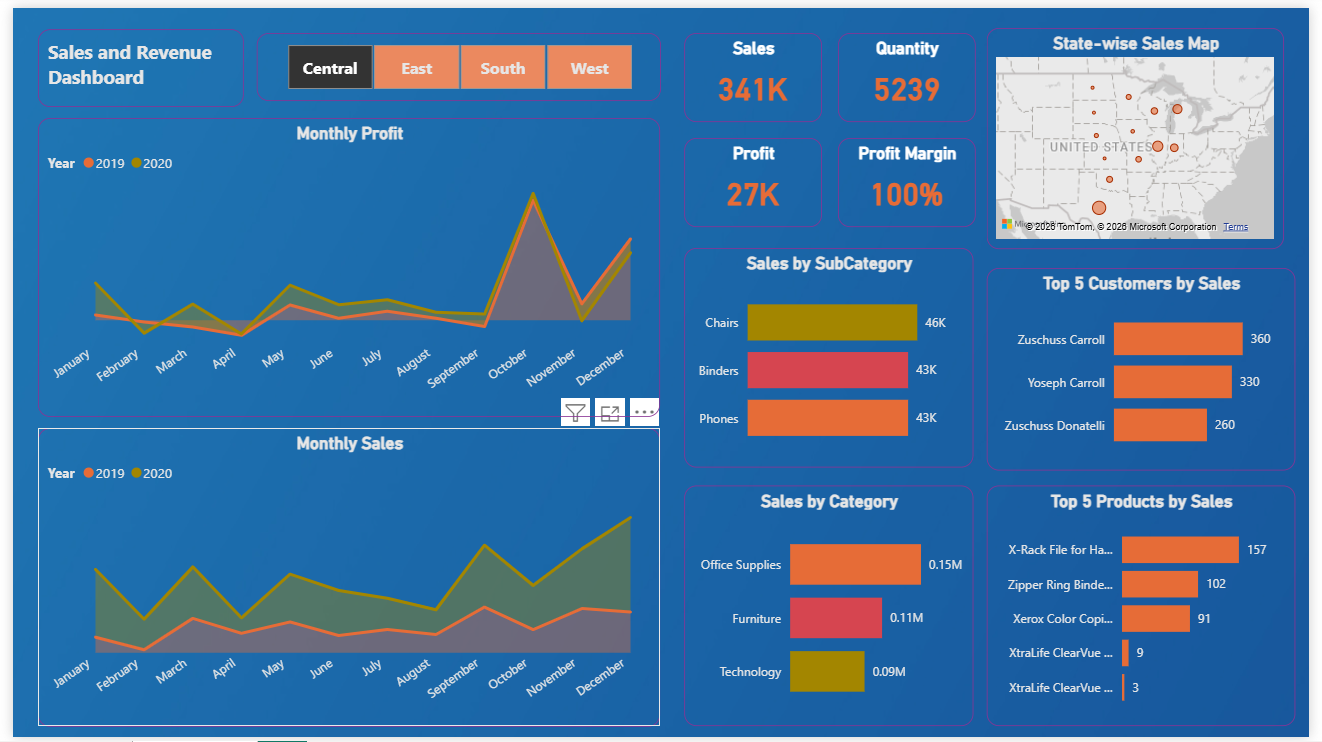

What the dashboard file says about the page in this screenshot:
{"tool":"powerbi","page":{"name":"Dashboard","canvas":[1280,720],"ordinal":0},"visuals":[{"type":"clusteredBarChart","title":" Sales by Category","fields":{"Category":["Sheet1.Category"],"Y":["Sum(Sheet1.Sales)"]},"box":[662.8,472,285.4,237.4],"z":0},{"type":"clusteredBarChart","title":" Sales by SubCategory","fields":{"Category":["Sheet1.Sub-Category"],"Y":["Sum(Sheet1.Sales)"]},"box":[662.8,237.4,285.4,216.8],"z":1000},{"type":"stackedAreaChart","title":"Monthly Sales","fields":{"Y":["Sum(Sheet1.Sales)"],"Category":["Sheet1.Order Date.Variation.Date Hierarchy.Month"],"Series":["Sheet1.Order Date.Variation.Date Hierarchy.Year"]},"box":[24.7,414.4,614.8,295],"z":2000},{"type":"stackedAreaChart","title":"Monthly Profit ","fields":{"Category":["Sheet1.Order Date.Variation.Date Hierarchy.Month"],"Series":["Sheet1.Order Date.Variation.Date Hierarchy.Year"],"Y":["Sum(Sheet1.Profit)"]},"box":[24.7,108.4,614.8,295],"z":3000},{"type":"map","title":"State-wise Sales Map","fields":{"Category":["Sheet1.State"],"Size":["Sum(Sheet1.Sales)"]},"box":[961.9,19.2,293.7,218.2],"z":4000},{"type":"slicer","fields":{"Values":["Sheet1.Region"]},"box":[240.1,24.7,399.3,67.2],"z":5000},{"type":"textbox","box":[24.7,20.6,203.1,76.8],"z":6000},{"type":"card","title":"Sales","fields":{"Values":["Sum(Sheet1.Sales)"]},"box":[662.8,24.7,135.8,87.8],"z":7000},{"type":"card","title":"Quantity","fields":{"Values":["Sum(Sheet1.Quantity)"]},"box":[815.1,24.7,135.8,87.8],"z":8000},{"type":"card","title":"Profit","fields":{"Values":["Sum(Sheet1.Profit)"]},"box":[662.8,129,135.8,87.8],"z":9000},{"type":"barChart","title":"Top 5 Products by Sales","fields":{"Category":["Sheet1.Product Name"],"Y":["Sum(Sheet1.Sales)"]},"box":[961.9,472,304.6,237.4],"z":10000},{"type":"barChart","title":"Top 5 Customers by Sales","fields":{"Category":["Sheet1.Customer Name"],"Y":["Sum(Sheet1.Sales)"]},"box":[961.9,256.6,304.6,200.3],"z":11000},{"type":"card","title":"Profit Margin ","fields":{"Values":["Sheet1.Profit Margin"]},"box":[815.1,129,135.8,87.8],"z":12000}]}

Visuals, with their boxes in screenshot pixels (x1, y1, x2, y2), scaled from the page's 1280x720 canvas onto the 1322x742 screenshot:
" Sales by Category" clusteredBarChart: detection(685, 486, 979, 731)
" Sales by SubCategory" clusteredBarChart: detection(685, 245, 979, 468)
"Monthly Sales" stackedAreaChart: detection(26, 427, 660, 731)
"Monthly Profit " stackedAreaChart: detection(26, 112, 660, 416)
"State-wise Sales Map" map: detection(993, 20, 1297, 245)
slicer - Sheet1.Region: detection(248, 25, 660, 95)
textbox: detection(26, 21, 235, 100)
"Sales" card: detection(685, 25, 825, 116)
"Quantity" card: detection(842, 25, 982, 116)
"Profit" card: detection(685, 133, 825, 223)
"Top 5 Products by Sales" barChart: detection(993, 486, 1308, 731)
"Top 5 Customers by Sales" barChart: detection(993, 264, 1308, 471)
"Profit Margin " card: detection(842, 133, 982, 223)
